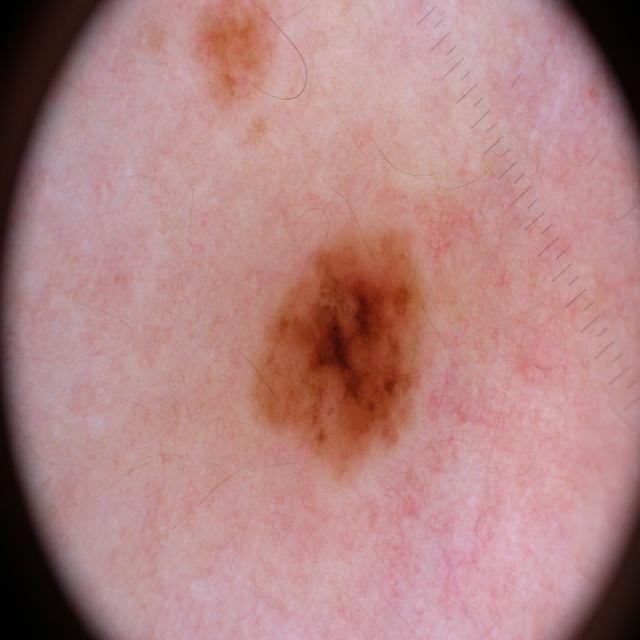Benign: (241, 213, 432, 482)
